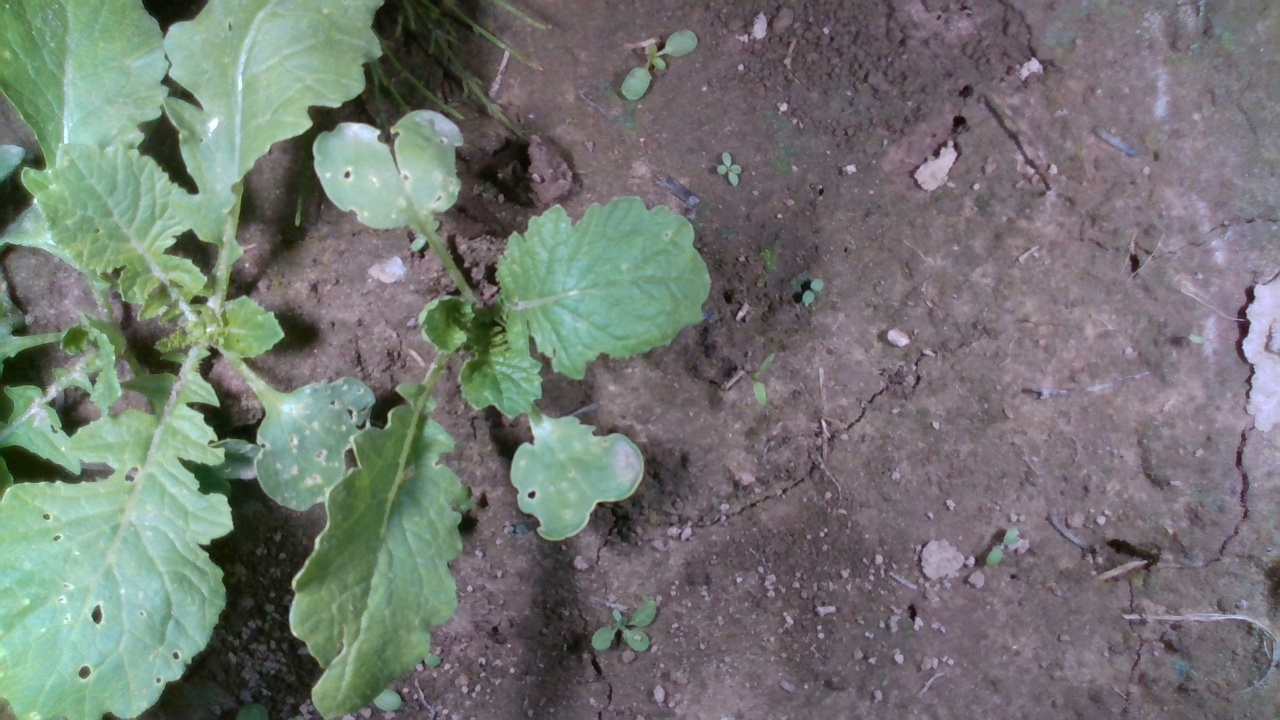weed: (620, 29, 699, 101), (590, 600, 657, 654), (751, 349, 778, 406), (985, 525, 1020, 568), (715, 151, 743, 188), (802, 277, 825, 306)
